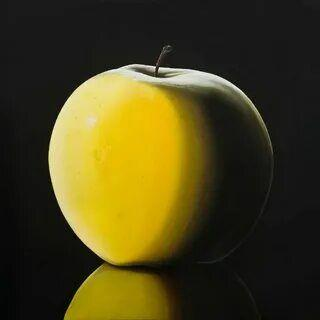Apple: (46, 69, 274, 264)
